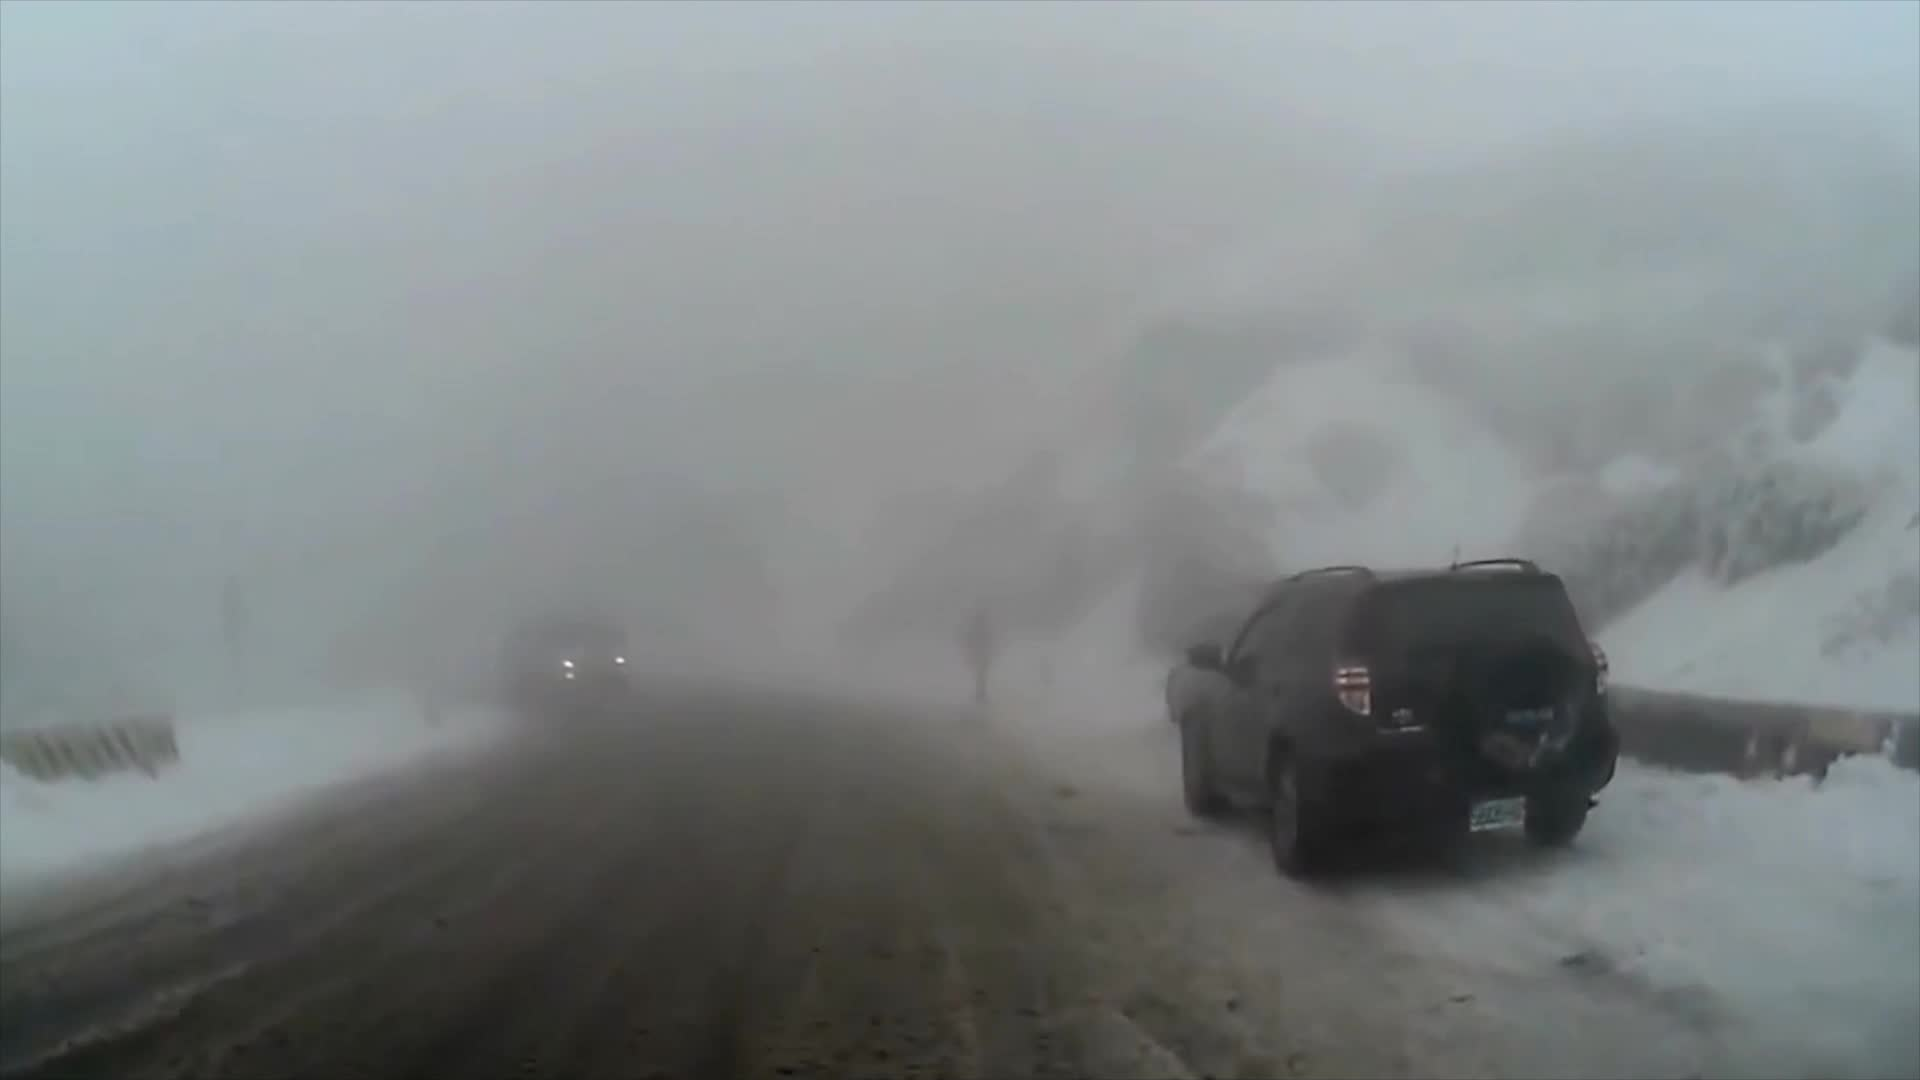vehicle: (1178, 554, 1617, 881), (496, 622, 636, 713)
